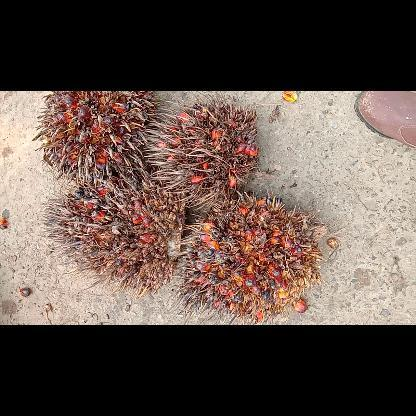Terlalu masak: (170, 184, 326, 324), (37, 166, 192, 302), (143, 90, 261, 214), (26, 91, 164, 187)
